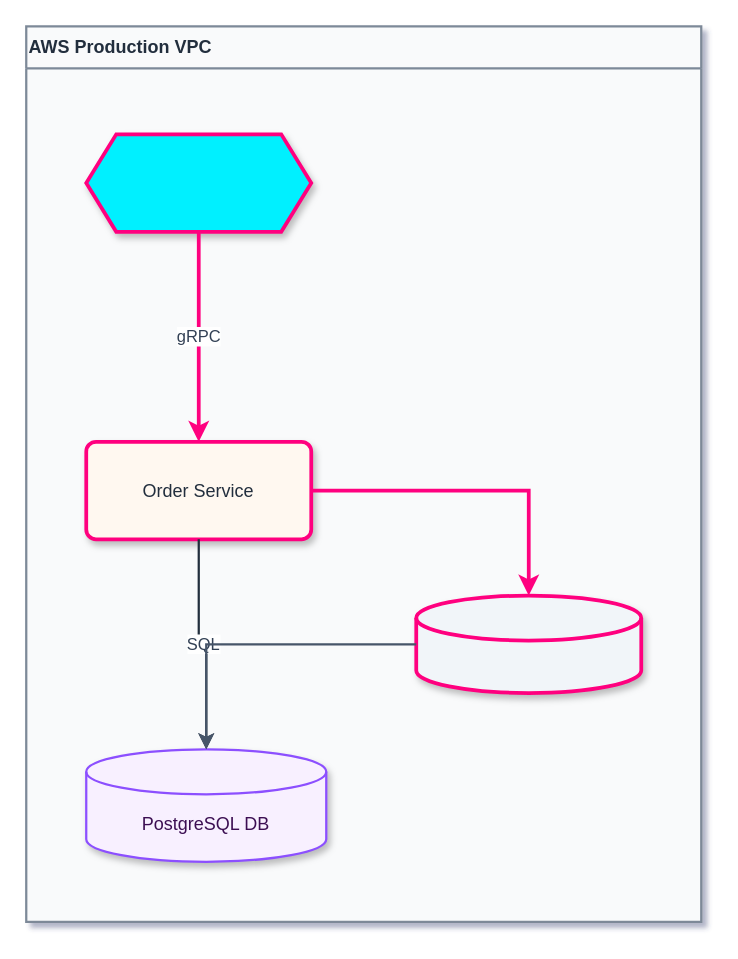
The diagram is 738 pixels wide and 959 high, and some of its shapes have lost their labels. Each missing label, with the centre of its shape:
API Gateway v2: point (199, 184)
Redis Cache: point (529, 646)
